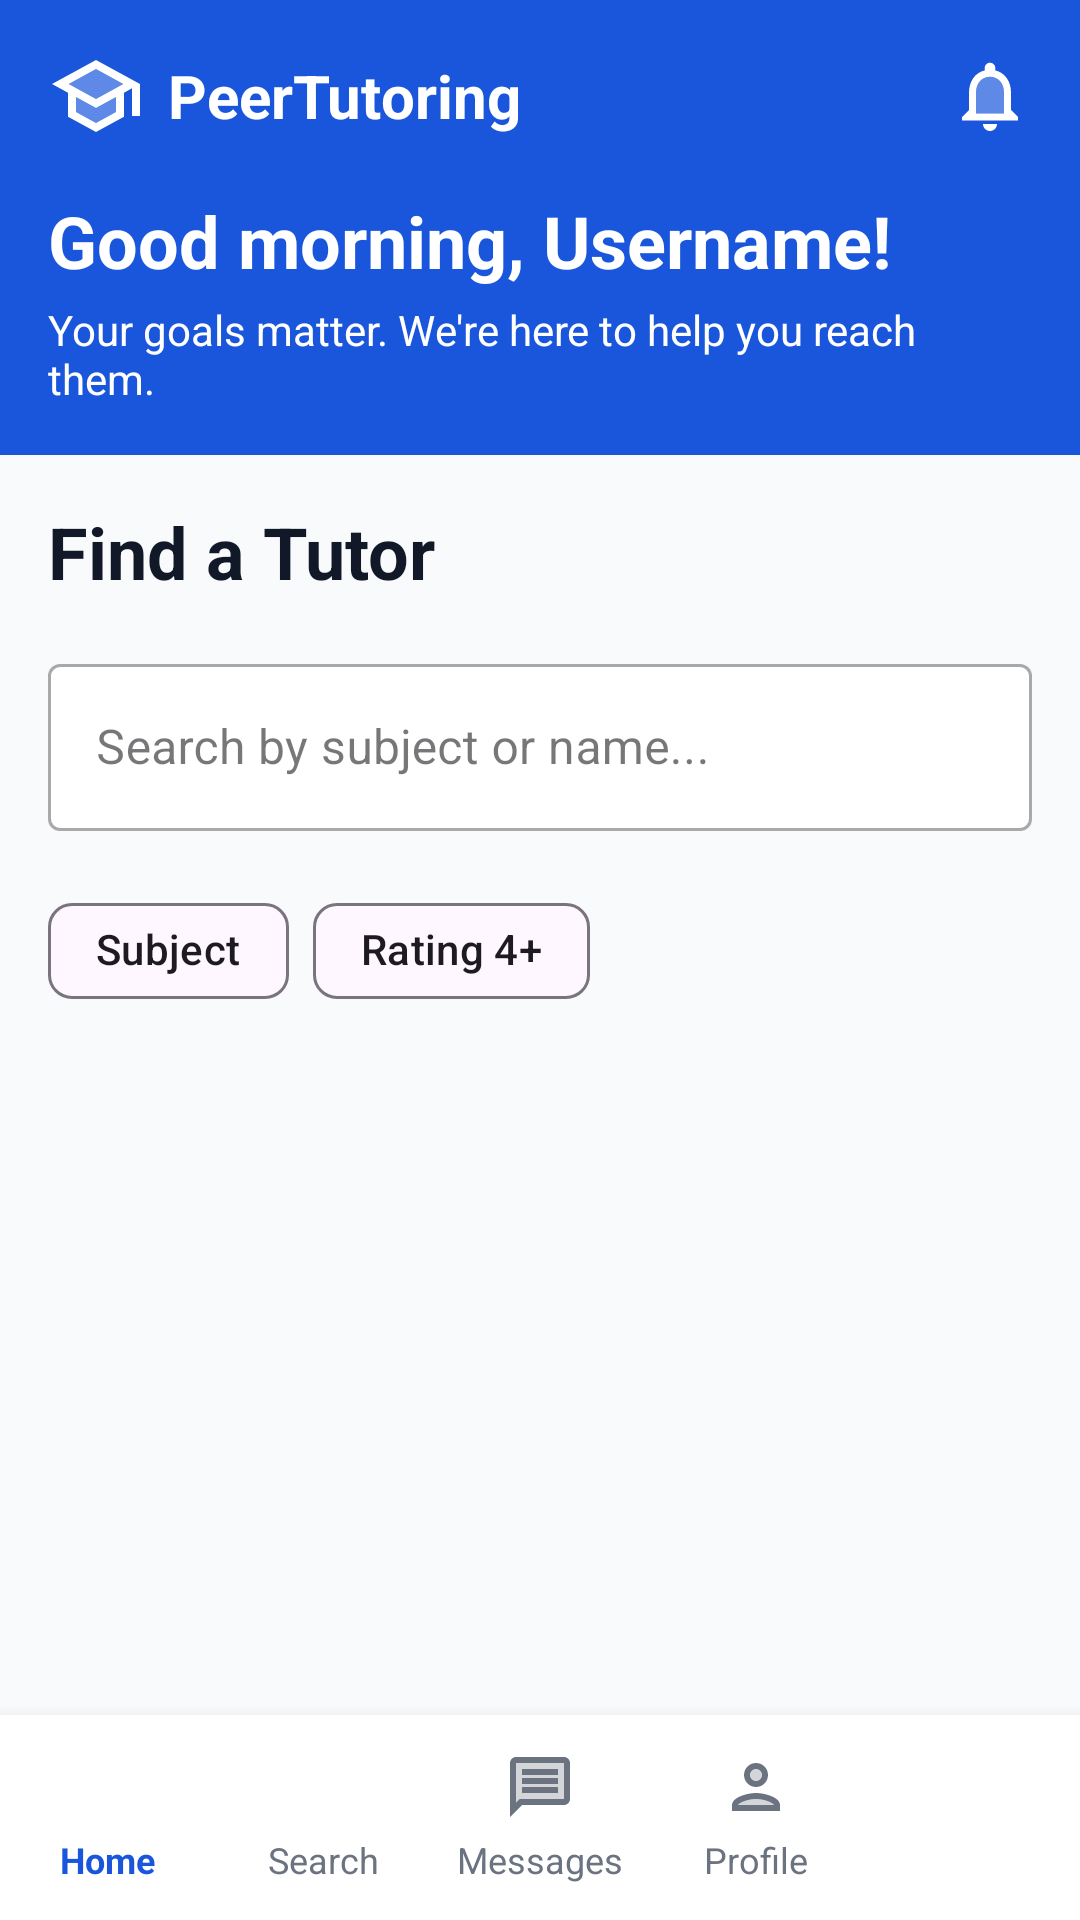

Where icons sit on this 1080w x 1920h app screen, as rect(x1, y1, x2, y2):
notifications: rect(962, 62, 1018, 131)
person: rect(732, 1763, 780, 1811)
school hat: rect(52, 60, 140, 132)
